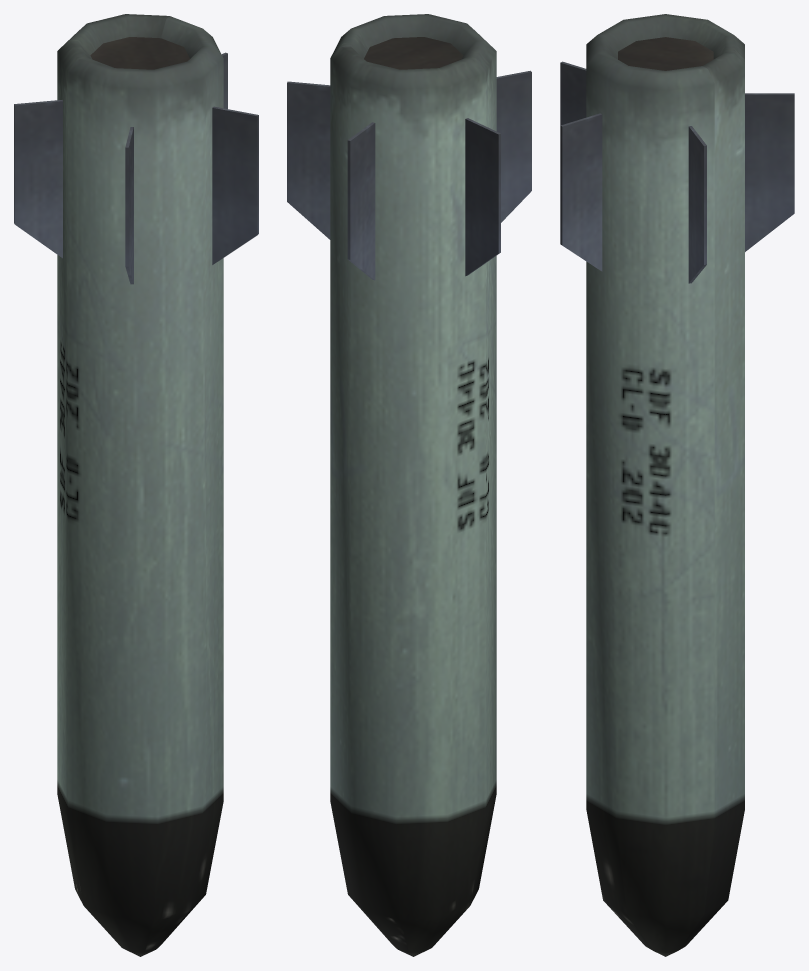
Rendered from Missile.fbx.
The picture shows the model from 3 angles, left to right: view 1: azimuth 30°, elevation 25°; view 2: azimuth 150°, elevation 25°; view 3: azimuth 270°, elevation 25°; orthographic projection.
Visible parts, largest first — view 1: Circle; view 2: Circle; view 3: Circle.
Boxes of the visible parts, x1,y1,x2,y2 form: Circle: (14, 14, 258, 956); Circle: (287, 14, 531, 956); Circle: (560, 14, 794, 956).
Size of the model in its own units: 0.5392 by 2.21 by 0.5128.
1 material, 1 textured.
